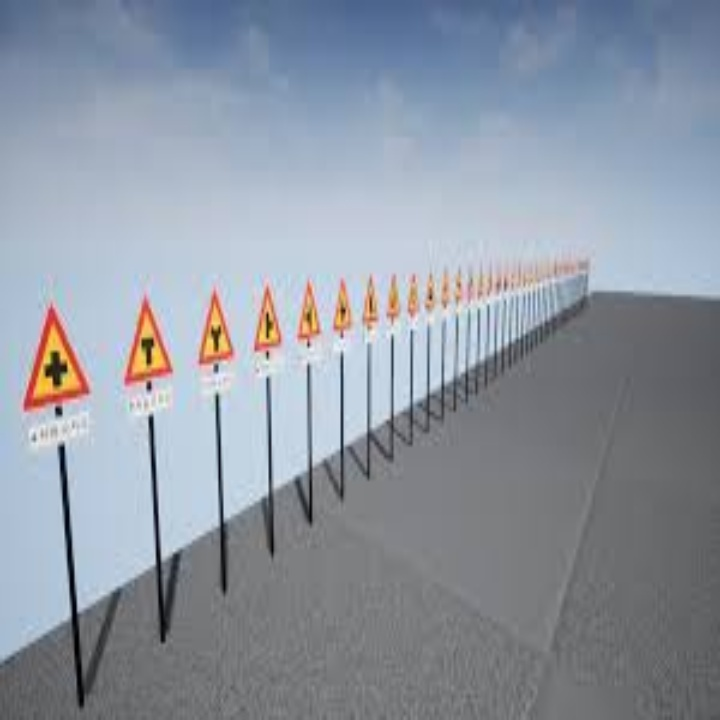inter: (39, 345, 75, 387)
